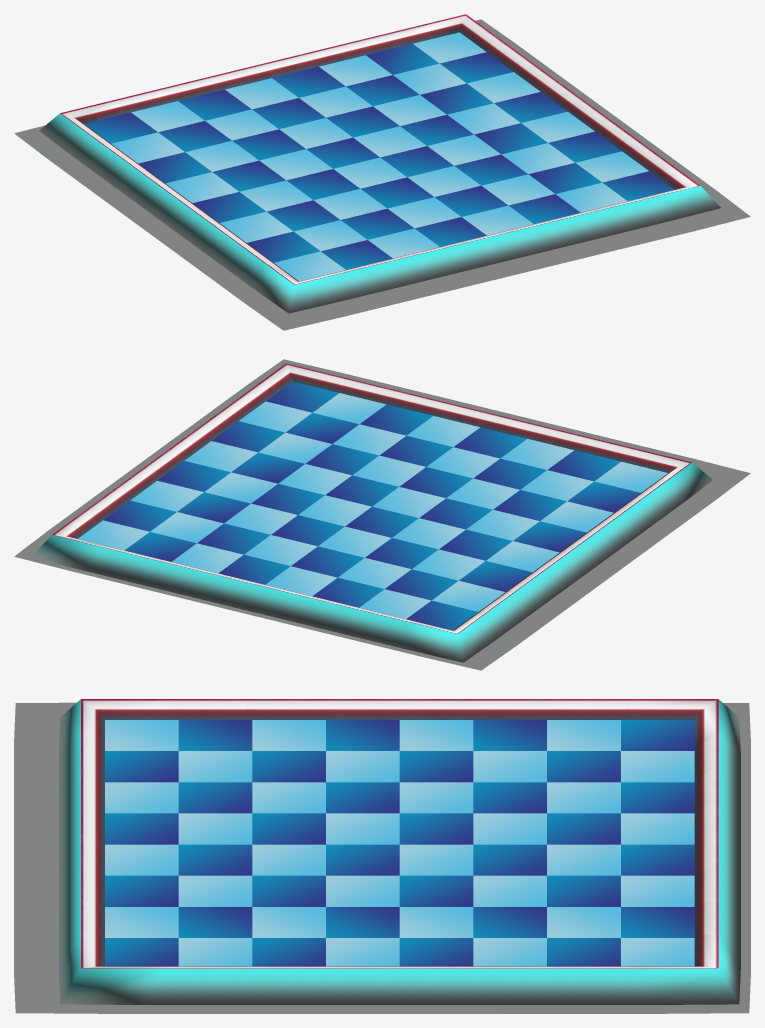
Rendered from board.fbx.
3 renders of one model, top to bottom at view 1: azimuth 30°, elevation 25°; view 2: azimuth 150°, elevation 25°; view 3: azimuth 270°, elevation 25°, orthographic. The views are drawn at different scales.
Visible parts, largest first — view 1: board; view 2: board; view 3: board.
Part boxes in pixels (left/top/right/bottom): board: left=14, top=14, right=750, bottom=330; board: left=14, top=359, right=750, bottom=670; board: left=14, top=699, right=750, bottom=1013.
Bounding box in the file's own units: 98.28 × 3.98 × 98.28.
